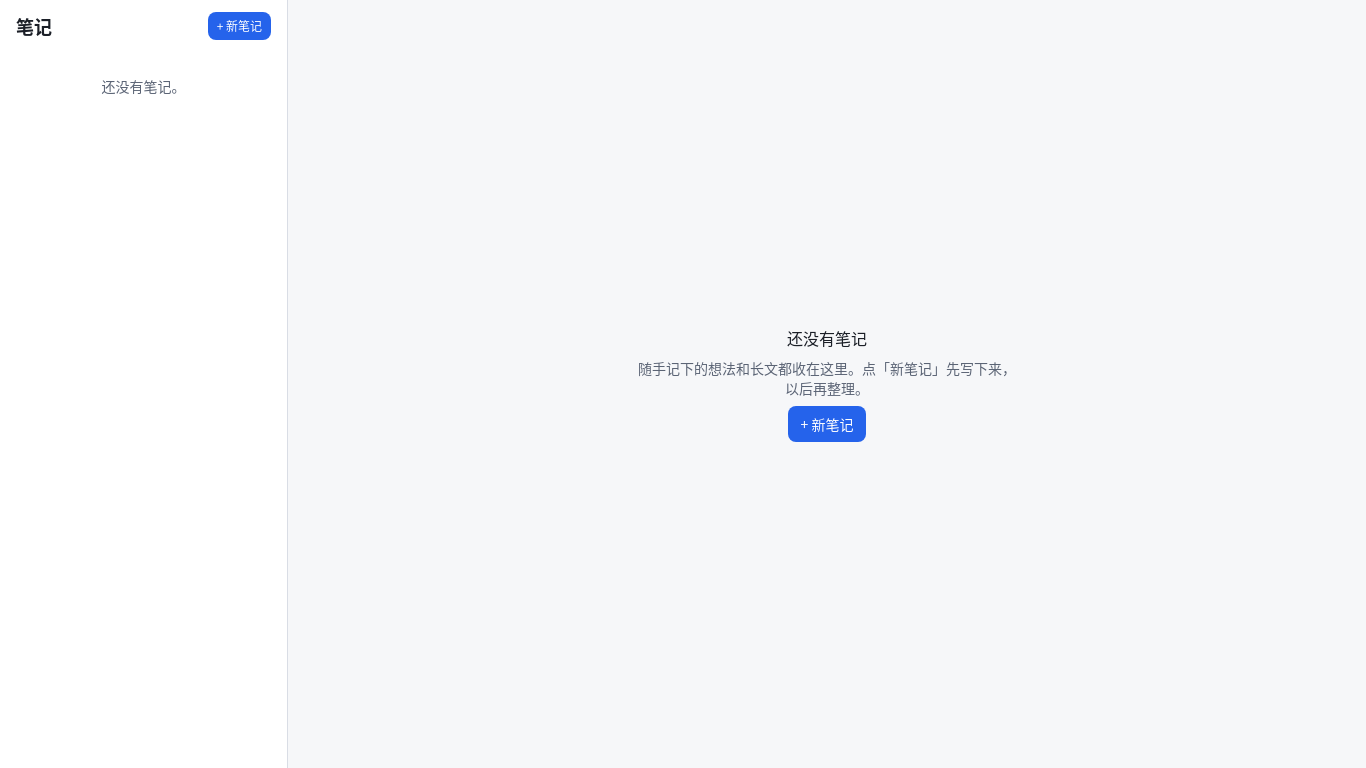
Test case: NotesPage › 没有笔记时给出空状态，点「新笔记」创建并立刻打开
Later steps or results of the test are not shown.
Expected: the text "还没有笔记" is shown, [787, 326, 867, 350]
Click the 1st button "+ 新笔记": click(239, 26) [208, 12, 271, 40]
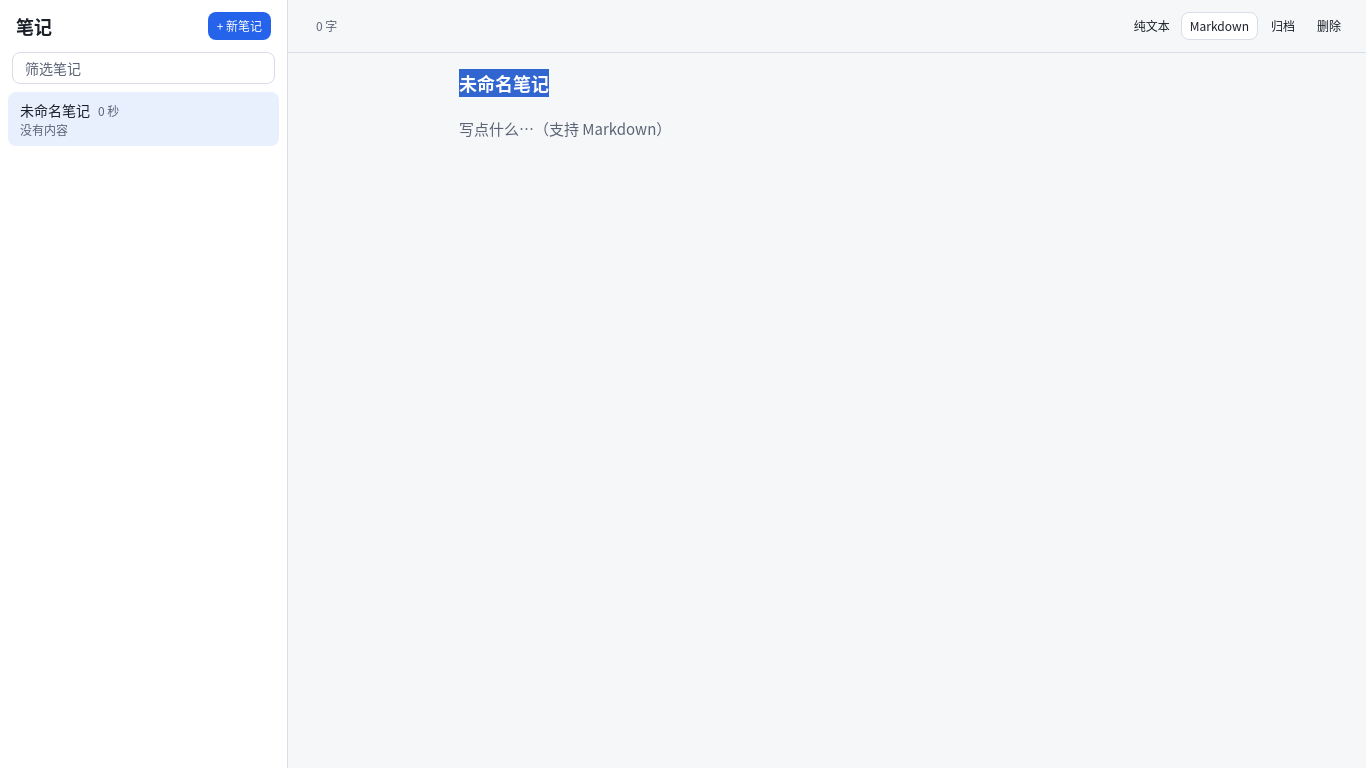
Result: the field named "标题" holds "未命名笔记" at [459, 69, 1195, 97]
